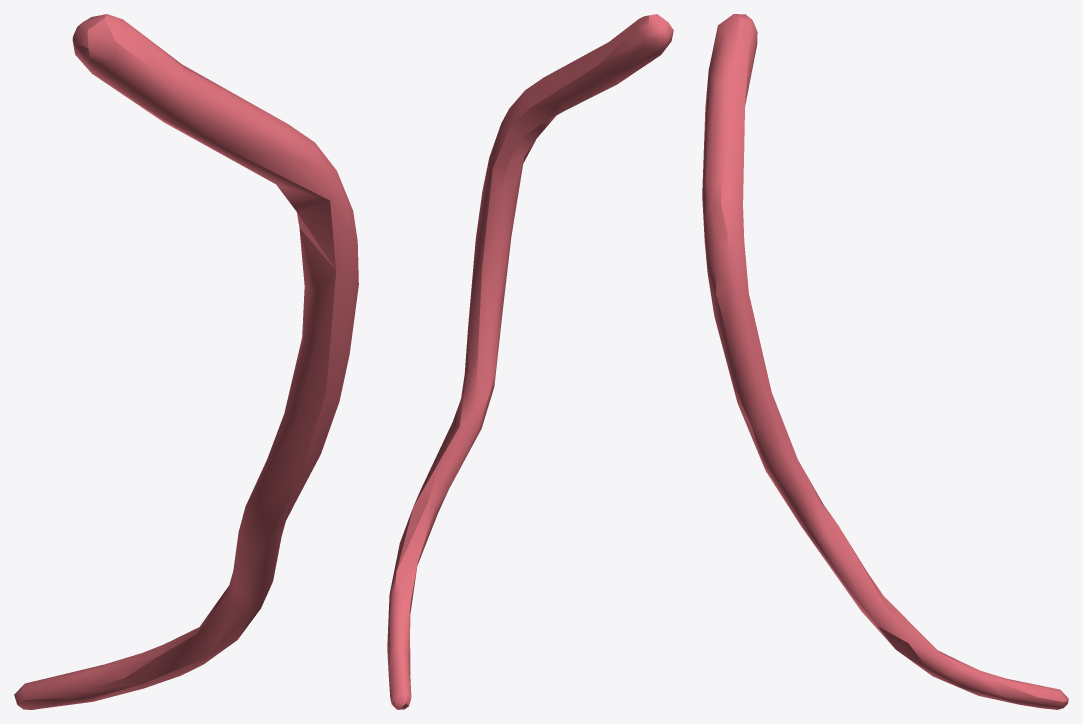
The model's file is fma66403_fj2657.glb.
3 views of the same model, side by side, from view 1: azimuth 30°, elevation 25°; view 2: azimuth 150°, elevation 25°; view 3: azimuth 270°, elevation 25° (orthographic). The views are drawn at different scales.
Visible parts, largest first — view 1: FMA66403_FJ2657; view 2: FMA66403_FJ2657; view 3: FMA66403_FJ2657.
Boxes of the visible parts, x1,y1,x2,y2 form: FMA66403_FJ2657: (14, 14, 358, 709); FMA66403_FJ2657: (387, 14, 673, 709); FMA66403_FJ2657: (702, 14, 1068, 709).
Size of the model in its own units: 0.00777 by 0.0236 by 0.0122.
